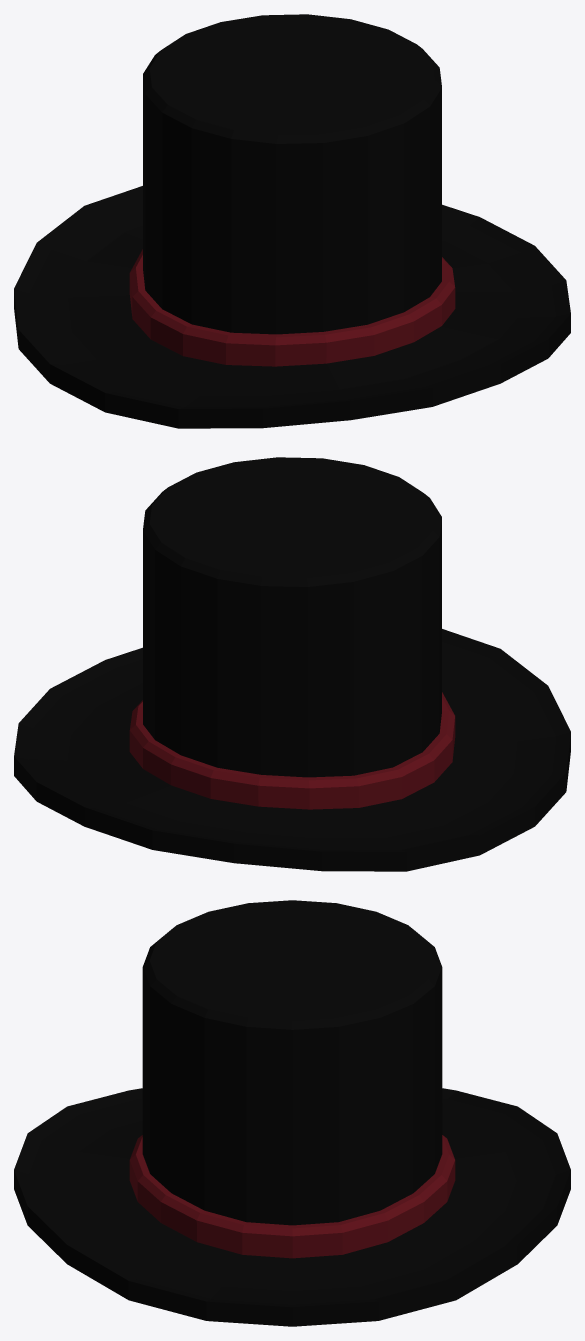
File: ww_hat_c.glb
3 views of the same model, one above another, from view 1: azimuth 30°, elevation 25°; view 2: azimuth 150°, elevation 25°; view 3: azimuth 270°, elevation 25° (orthographic).
Visible parts, largest first — view 1: Hat_C; view 2: Hat_C; view 3: Hat_C.
Boxes of the visible parts, left/top/right/bottom form: Hat_C: left=14, top=14, right=570, bottom=428; Hat_C: left=14, top=457, right=570, bottom=871; Hat_C: left=14, top=900, right=570, bottom=1326.
Size of the model in its own units: 0.4893 by 0.2409 by 0.4893.
